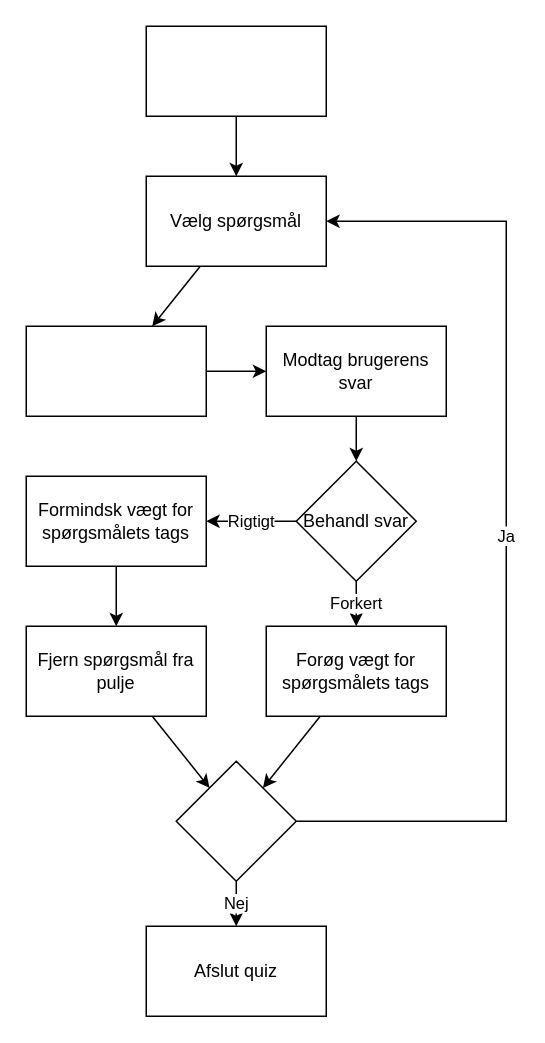
The diagram is 545 pixels wide and 1043 high, and some of its shapes have lost their labels. Each missing label, with the box of its shape:
Flere spørgsmål?: (175, 760, 296, 881)
Quizzen starter: (145, 25, 326, 116)
Vis spørgsmål i GUI: (25, 325, 206, 416)
